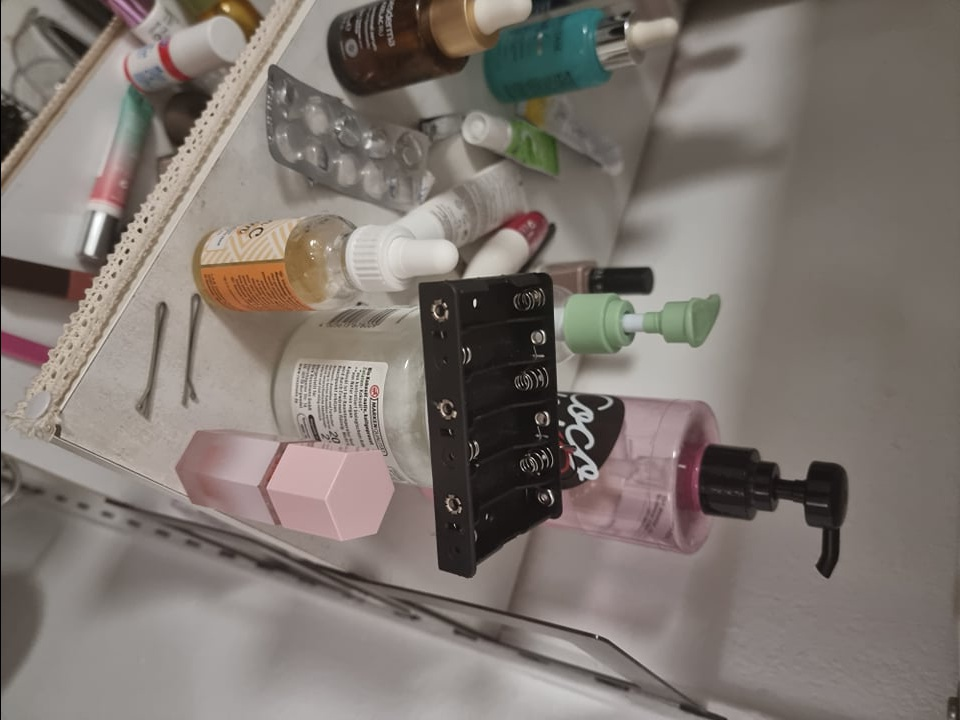BATTERY BOX: (416, 269, 565, 579)
